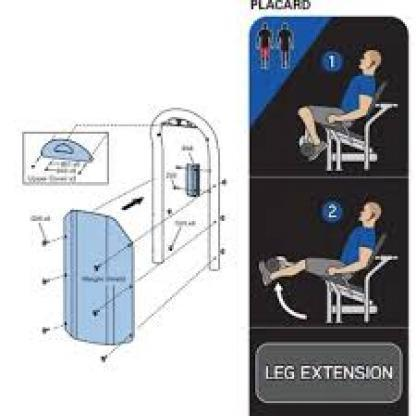leg extension: (254, 196, 405, 325), (276, 44, 398, 169)
